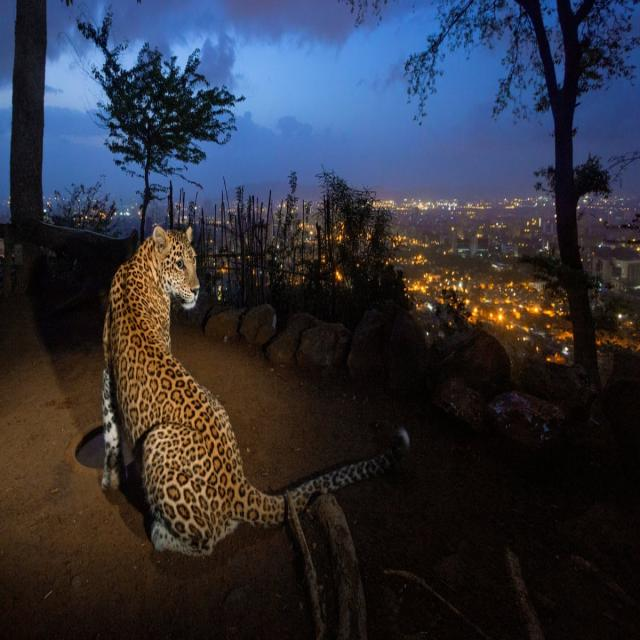Leopard: (100, 230, 412, 554)
